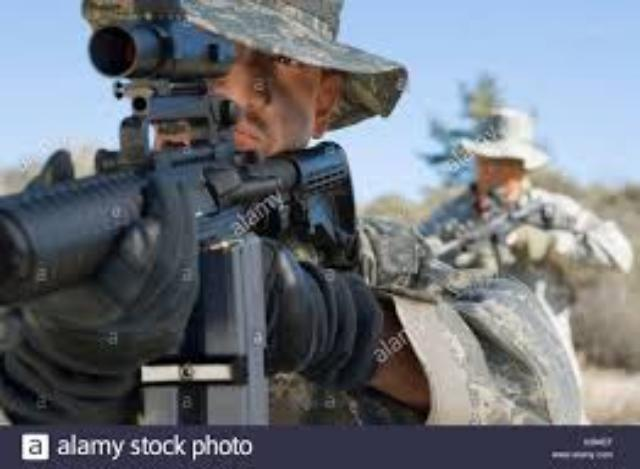other: (89, 0, 414, 413), (432, 109, 616, 342)
